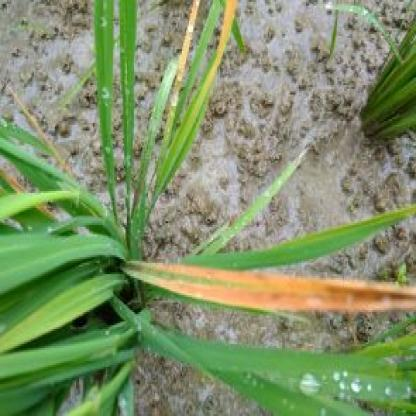Tungro: (139, 256, 415, 327)
